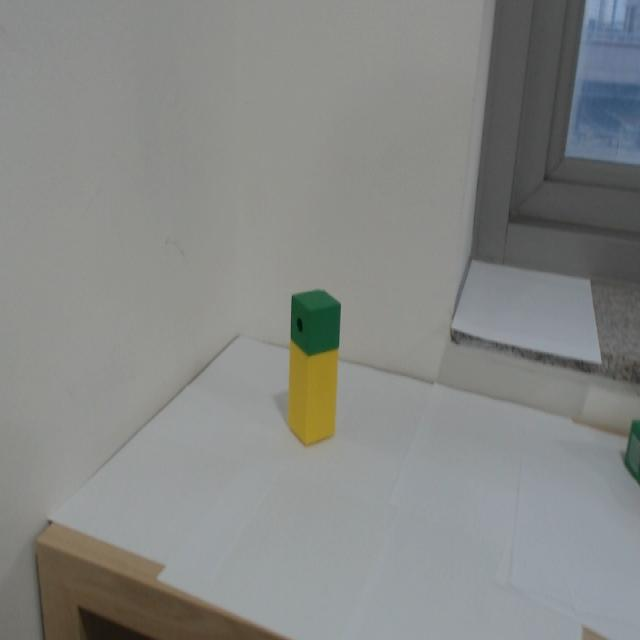cube: (289, 285, 347, 359)
